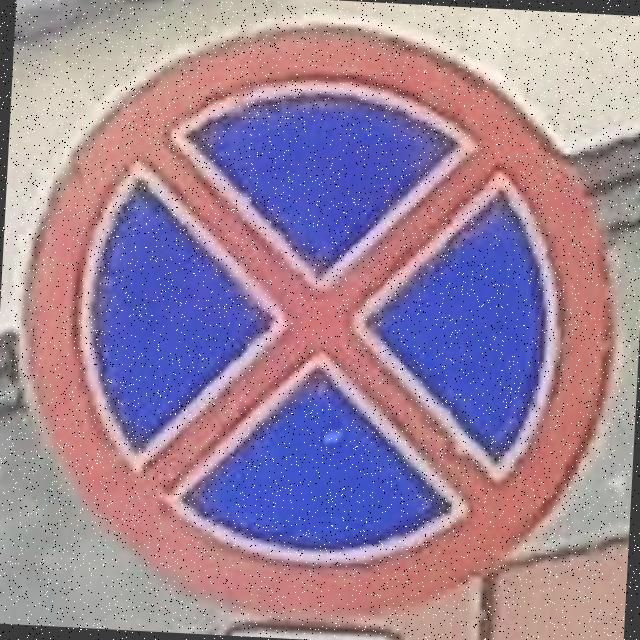Zakaz zatrzymywania sie: (4, 5, 628, 637)
